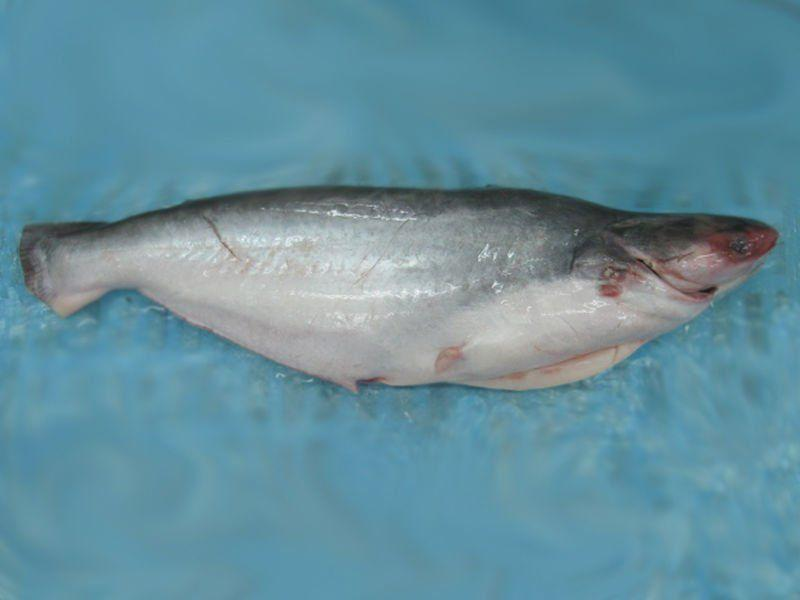Pangasius: (19, 167, 784, 400)
